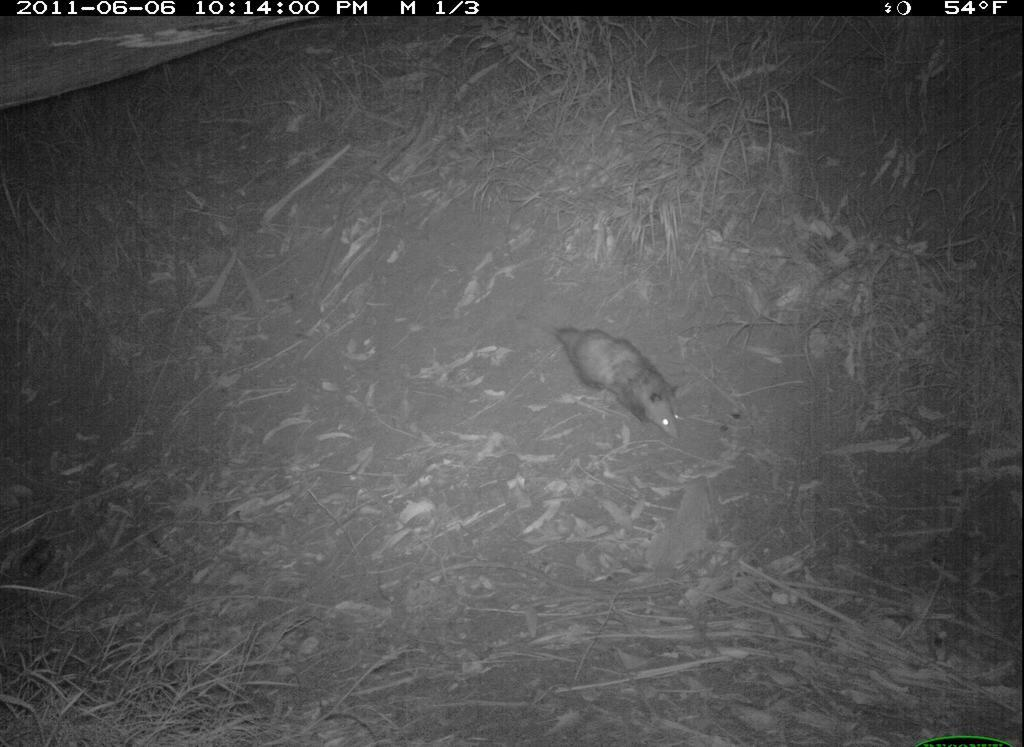opossum: (541, 315, 697, 449)
